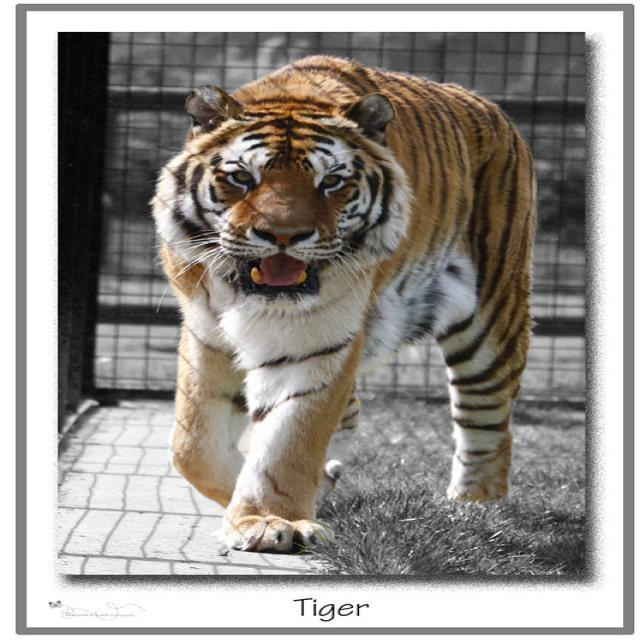Tiger: (149, 52, 534, 549)
